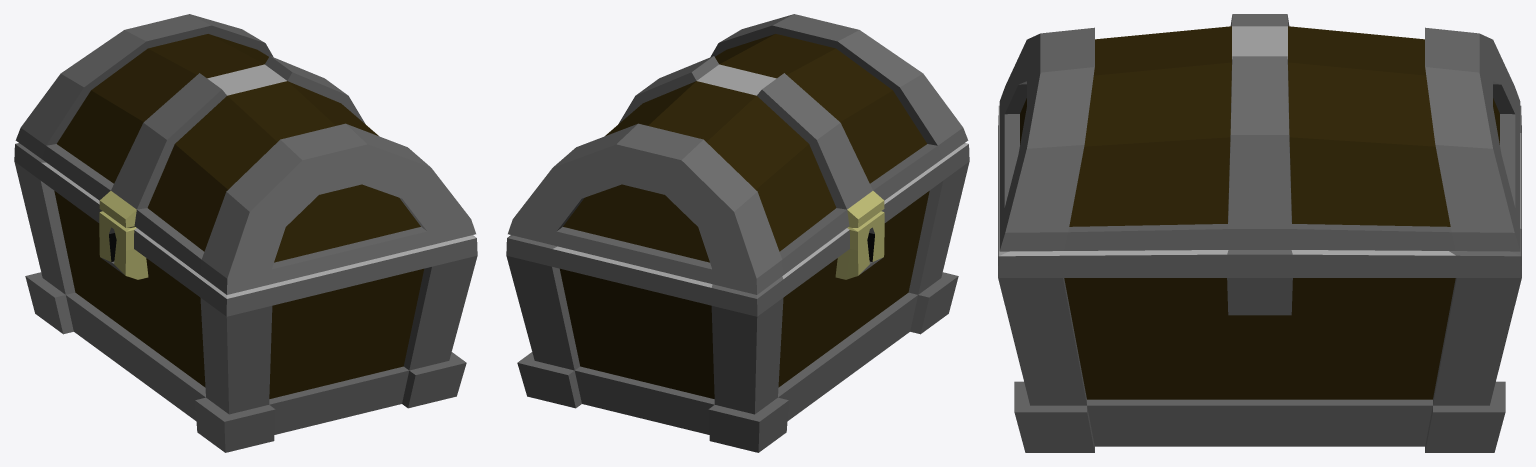
File: Chest.fbx
3 views of the same model, side by side, from view 1: azimuth 30°, elevation 25°; view 2: azimuth 150°, elevation 25°; view 3: azimuth 270°, elevation 25° (orthographic). The views are drawn at different scales.
Visible parts, largest first — view 1: pCylinder1; view 2: pCylinder1; view 3: pCylinder1.
Boxes of the visible parts, box(x1,y1,x2,y2) form: pCylinder1: box(14, 14, 477, 452); pCylinder1: box(506, 14, 969, 452); pCylinder1: box(998, 14, 1521, 452).
Size of the model in its own units: 2.7 by 2.81 by 3.84.
